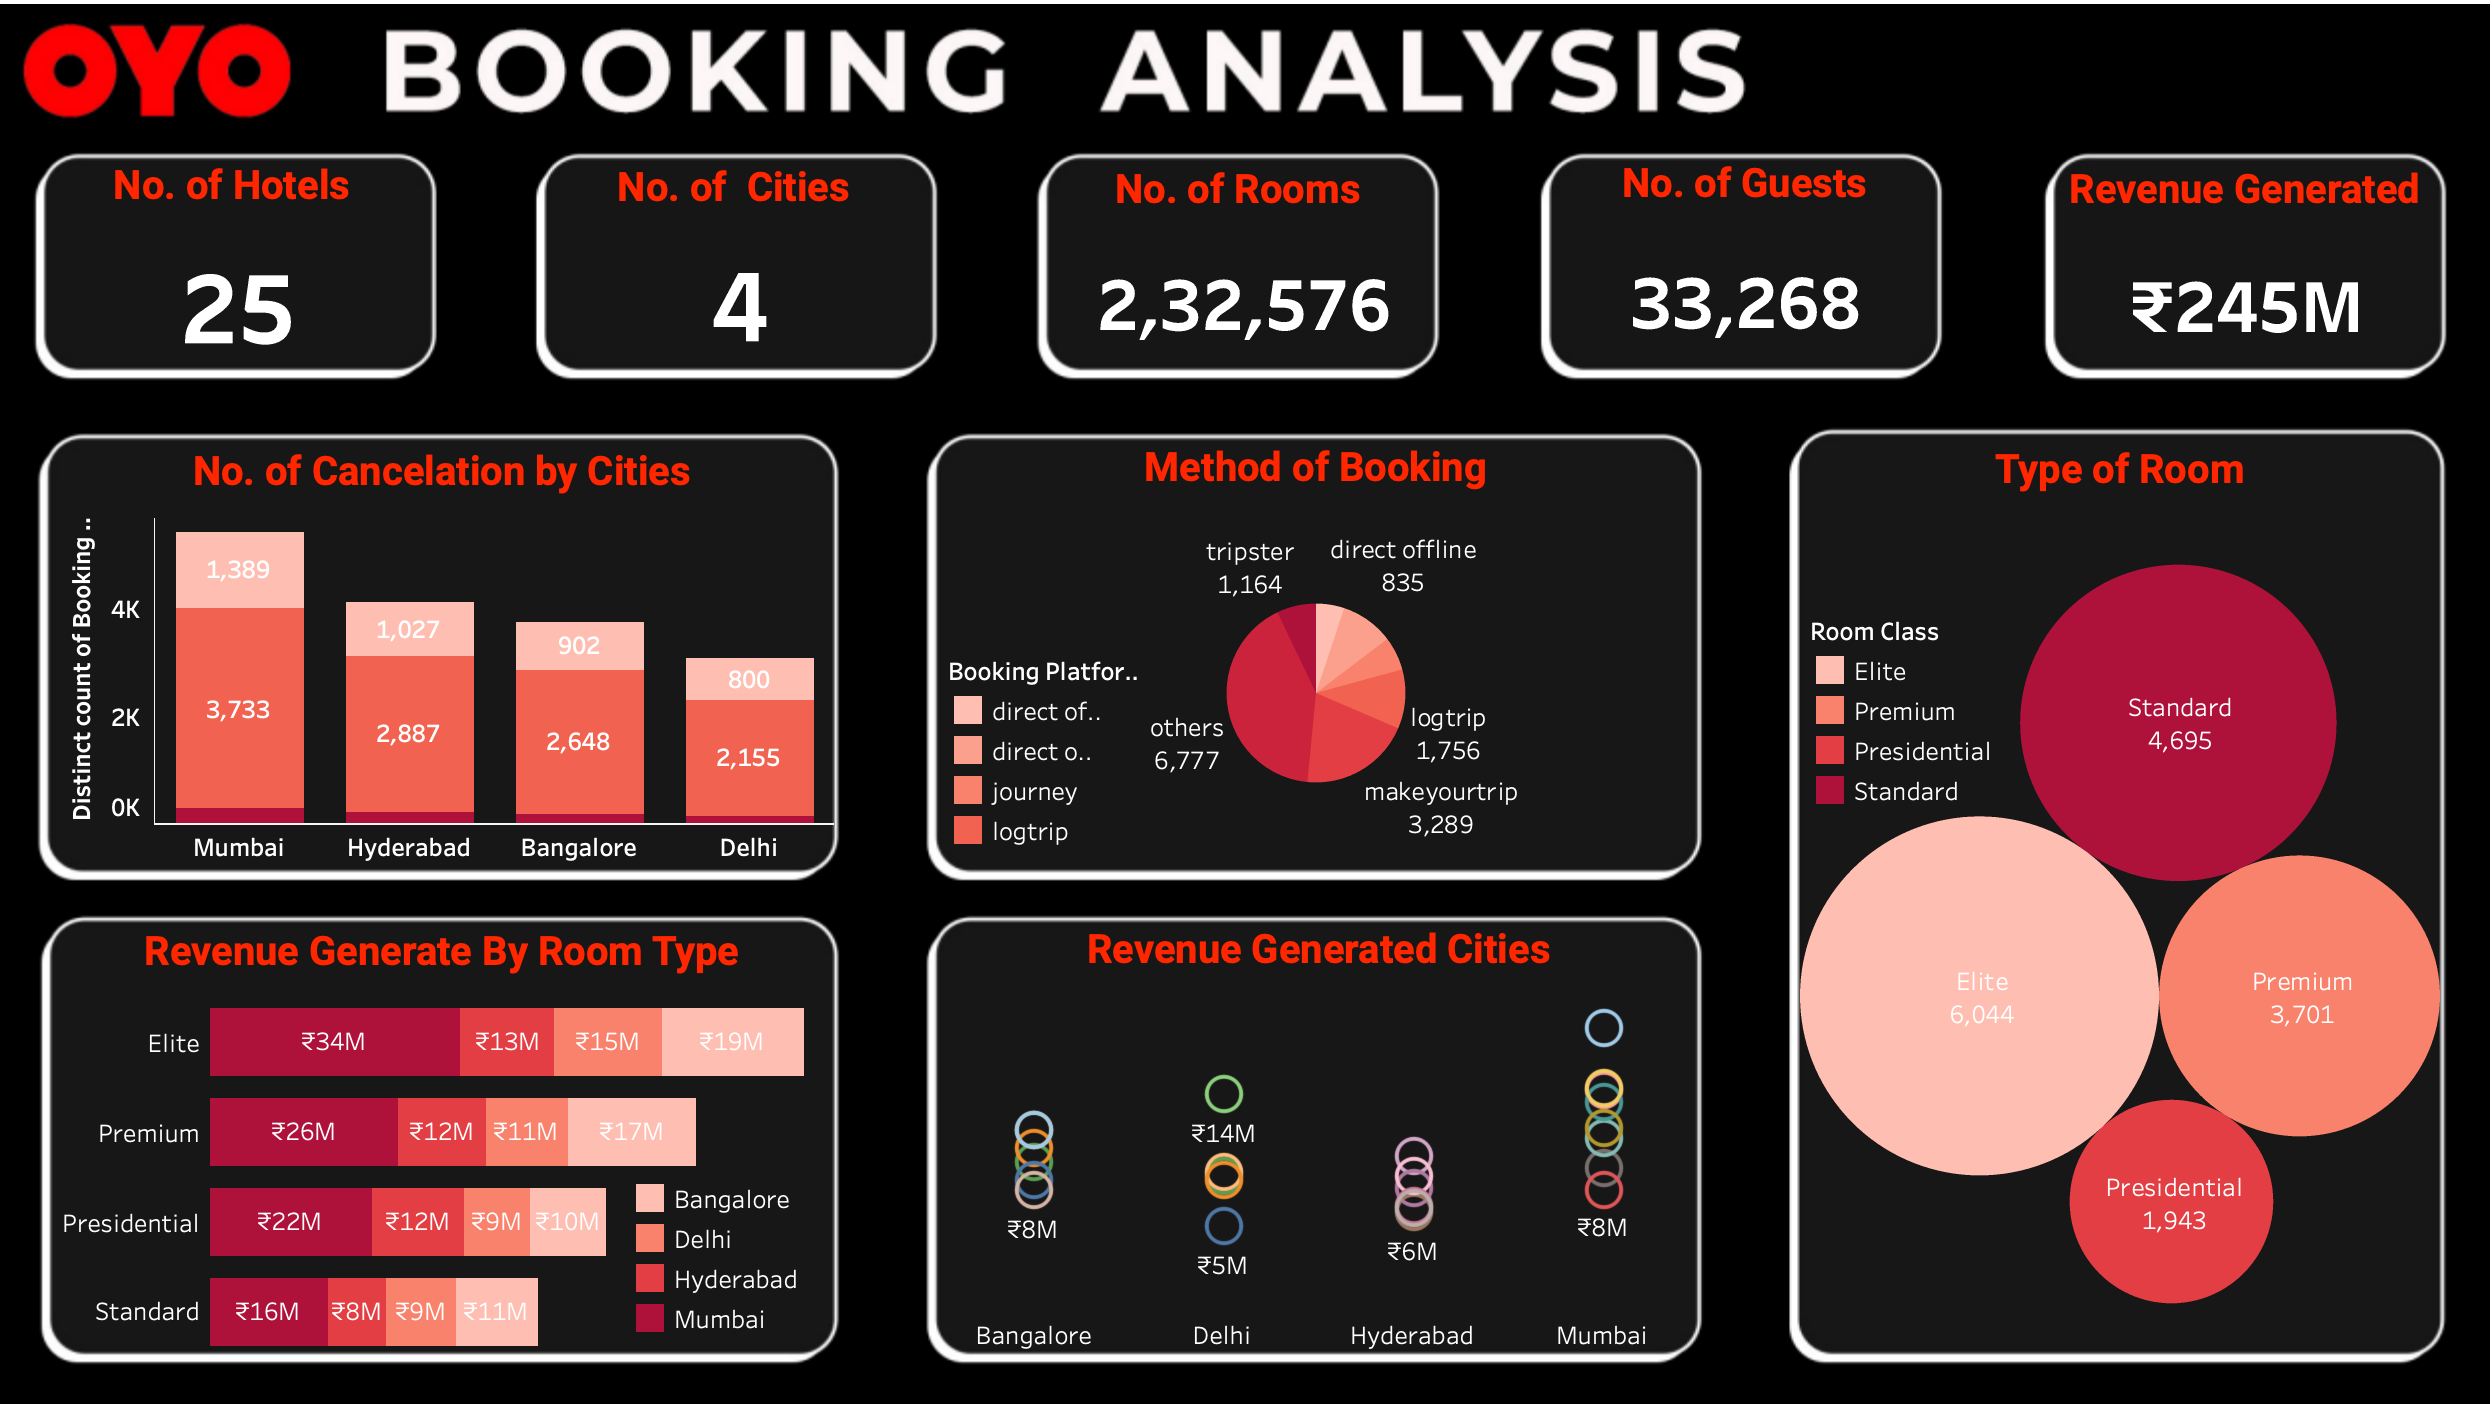

The dashboard page shown, as its layout file describes it:
{"tool":"tableau","page":{"name":"Dashboard 1","canvas":[1269,808],"ordinal":0},"visuals":[{"type":"image","param":"/Users/girisaimanikantadara/Documents/oyo.jpg","box":[8,8,313.3,396]},{"type":"image","box":[321.2,8,313.3,396]},{"type":"image","box":[634.5,8,626.5,396]},{"type":"image","param":"/Users/girisaimanikantadara/Desktop/sem 5/tableau/Tableau Project/oyo .jpg","box":[1,10,1263,797]},{"type":"filter","title":"Method of Booking","param":"[federated.0hbkf7q1vwlej41cqochx0n4nbnx].[none:city:nk]","box":[921,17,320,46]},{"type":"worksheet","title":"No. of Guests","mark":"Automatic","box":[787,86,195,109]},{"type":"worksheet","title":"No. of Hotels ","mark":"Text","box":[33,87,195,110]},{"type":"worksheet","title":"No. of  Cities ","mark":"Automatic","box":[283,88,197,107]},{"type":"worksheet","title":"No. of Rooms ","mark":"Automatic","box":[536,89,195,104]},{"type":"worksheet","title":"Revenue Generated","mark":"Automatic","box":[1037,89,195,106]},{"type":"worksheet","title":"Method of Booking","mark":"Pie","box":[479,228,382,218]},{"type":"worksheet","title":"Type of Room","mark":"Circle","box":[912,229,320,457]},{"type":"worksheet","title":"No. of Cancelation by Cities","mark":"Bar","rows":["booking_id"],"cols":["city"],"box":[37,230,392,215]},{"type":"legend","title":"Type of Room","param":"[federated.0hbkf7q1vwlej41cqochx0n4nbnx].[none:room_class:nk]","box":[917,317,104,98]},{"type":"legend","title":"Method of Booking","param":"[federated.0hbkf7q1vwlej41cqochx0n4nbnx].[none:booking_platform:nk]","box":[486,337,97,97]},{"type":"image","box":[8,404,626.5,396]},{"type":"image","box":[634.5,404,626.5,396]},{"type":"worksheet","title":"Revenue Generated Cities","mark":"Shape","rows":["revenue_generated"],"cols":["city"],"box":[482,469,379,218]},{"type":"worksheet","title":"Revenue Generate By Room Type","mark":"Automatic","rows":["room_class"],"cols":["revenue_generated"],"box":[37,470,392,218]},{"type":"legend","title":"Revenue Generate By Room Type","param":"[federated.0hbkf7q1vwlej41cqochx0n4nbnx].[none:city:nk]","box":[327,599,102,87]}]}

Visuals, with their boxes on the page's 1269x808 design canvas (x1, y1, x2, y2). These are canvas units, not pixel positions in the 2492x1404 screenshot, which may show the page scaled, cropped or inside an application window:
image: 8, 8, 321, 404
image: 321, 8, 634, 404
image: 634, 8, 1261, 404
image: 1, 10, 1264, 807
"Method of Booking" filter: 921, 17, 1241, 63
"No. of Guests" worksheet: 787, 86, 982, 195
"No. of Hotels " worksheet (Text marks): 33, 87, 228, 197
"No. of  Cities " worksheet: 283, 88, 480, 195
"No. of Rooms " worksheet: 536, 89, 731, 193
"Revenue Generated" worksheet: 1037, 89, 1232, 195
"Method of Booking" worksheet (Pie marks): 479, 228, 861, 446
"Type of Room" worksheet (Circle marks): 912, 229, 1232, 686
"No. of Cancelation by Cities" worksheet (Bar marks): 37, 230, 429, 445
"Type of Room" legend: 917, 317, 1021, 415
"Method of Booking" legend: 486, 337, 583, 434
image: 8, 404, 634, 800
image: 634, 404, 1261, 800
"Revenue Generated Cities" worksheet (Shape marks): 482, 469, 861, 687
"Revenue Generate By Room Type" worksheet: 37, 470, 429, 688
"Revenue Generate By Room Type" legend: 327, 599, 429, 686
